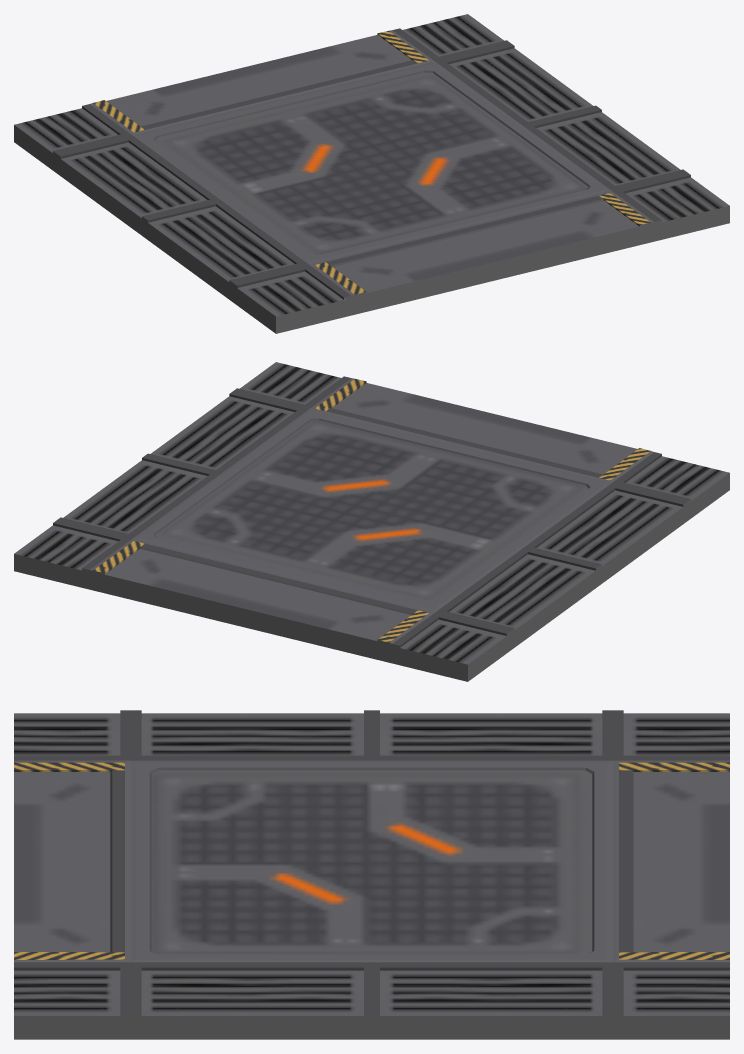
Rendered from mech_SM_Bld_Floor_01.gltf.
3 renders of one model, top to bottom at view 1: azimuth 30°, elevation 25°; view 2: azimuth 150°, elevation 25°; view 3: azimuth 270°, elevation 25°, orthographic. The views are drawn at different scales.
Visible parts, largest first — view 1: SM_Bld_Floor_01; view 2: SM_Bld_Floor_01; view 3: SM_Bld_Floor_01.
Boxes of the visible parts, left/top/right/bottom form: SM_Bld_Floor_01: left=14, top=14, right=729, bottom=333; SM_Bld_Floor_01: left=14, top=362, right=729, bottom=681; SM_Bld_Floor_01: left=14, top=710, right=729, bottom=1039.
Size of the model in its own units: 5 by 0.212 by 5.
Materials: 1 (1 with a texture image).
